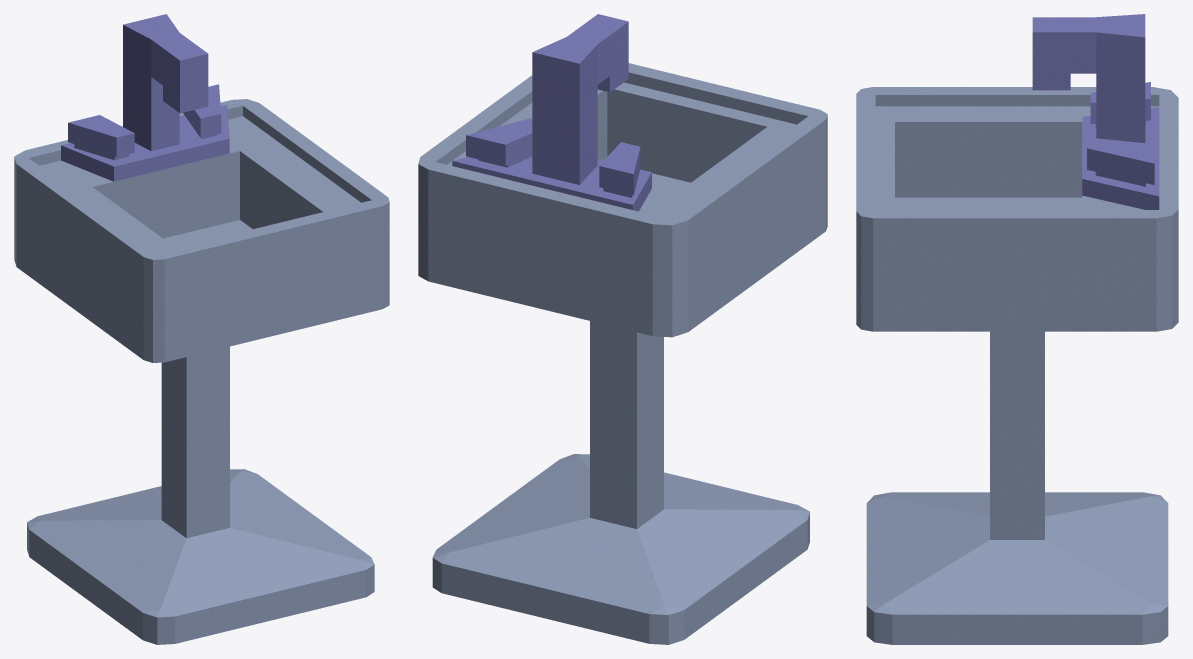
Rendered from HLSink.fbx.
3 views of the same model, side by side, from view 1: azimuth 30°, elevation 25°; view 2: azimuth 150°, elevation 25°; view 3: azimuth 270°, elevation 25° (orthographic). The views are drawn at different scales.
Parts seen in each view (by area): view 1: Sink; view 2: Sink; view 3: Sink.
Part boxes in pixels (bbox=[...]): Sink: bbox=[14, 14, 389, 644]; Sink: bbox=[418, 14, 827, 644]; Sink: bbox=[856, 14, 1178, 644].
Bounding box in the file's own units: 58.35 × 116 × 60.53.
